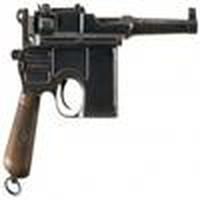gun: (3, 6, 200, 195)
